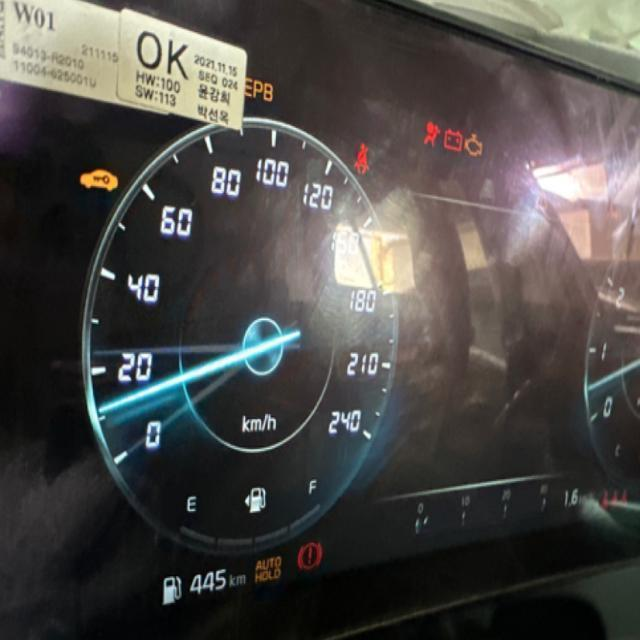Seat Belt: (350, 140, 373, 178)
